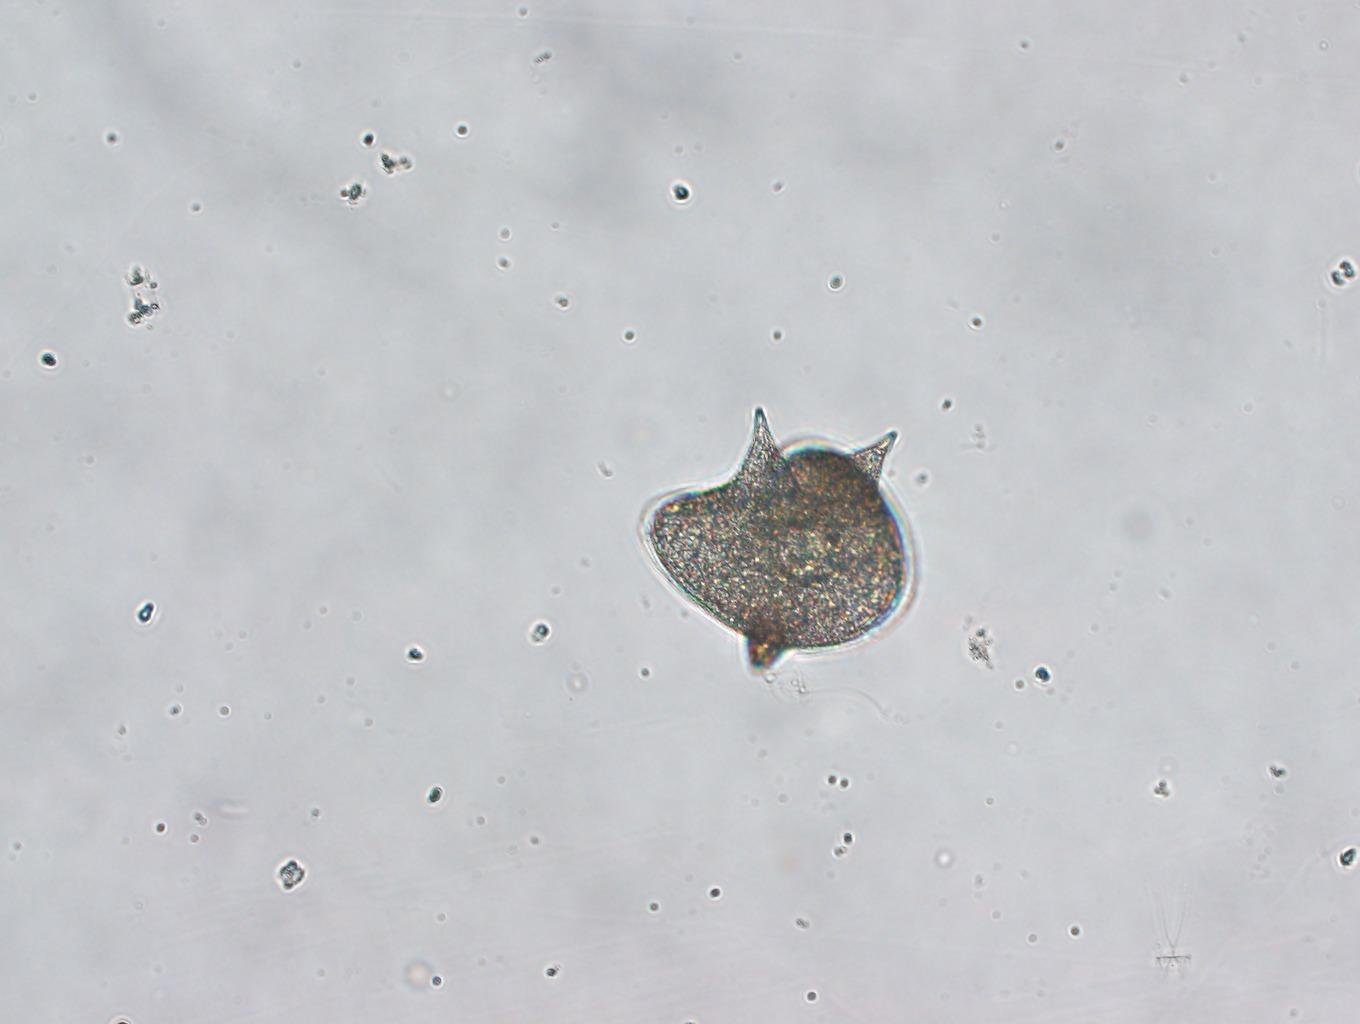protoperidinium: (627, 392, 918, 682)
